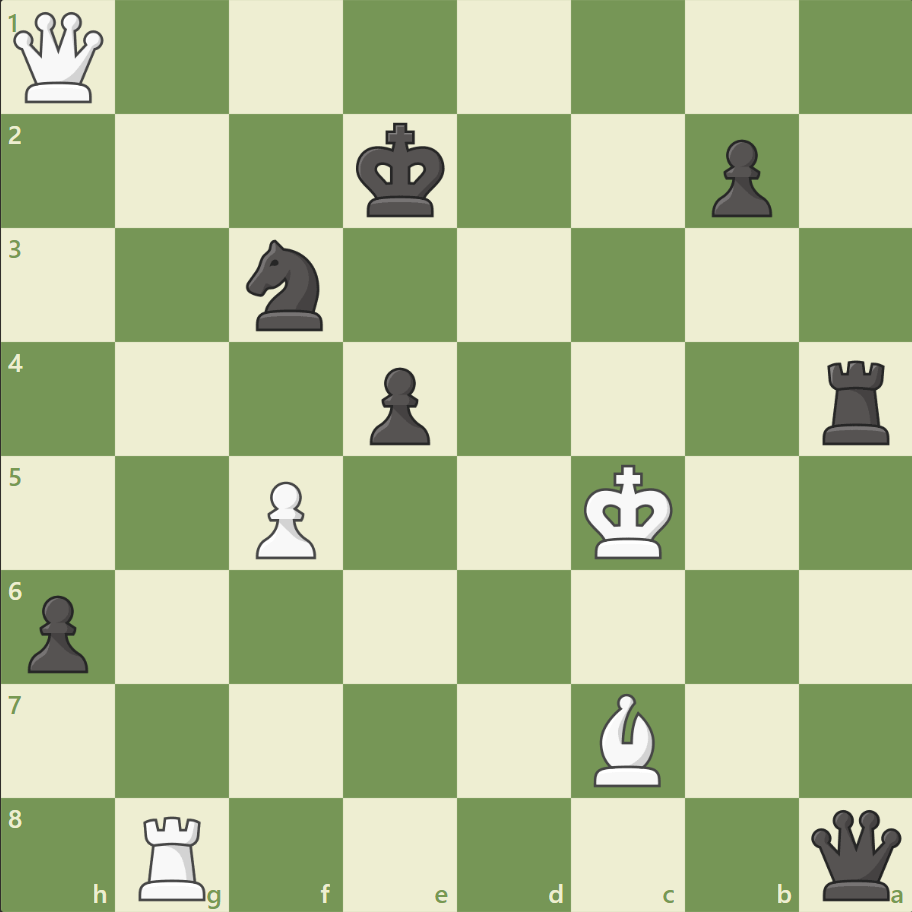B: (585, 687, 669, 790)
K: (579, 458, 679, 566)
P: (247, 473, 322, 564)
Q: (10, 9, 109, 108)
R: (133, 806, 215, 904)
k: (351, 117, 451, 225)
n: (238, 234, 335, 337)
p: (20, 586, 95, 677), (701, 132, 776, 223), (361, 359, 435, 450)
q: (805, 804, 904, 903)
r: (814, 352, 897, 449)
